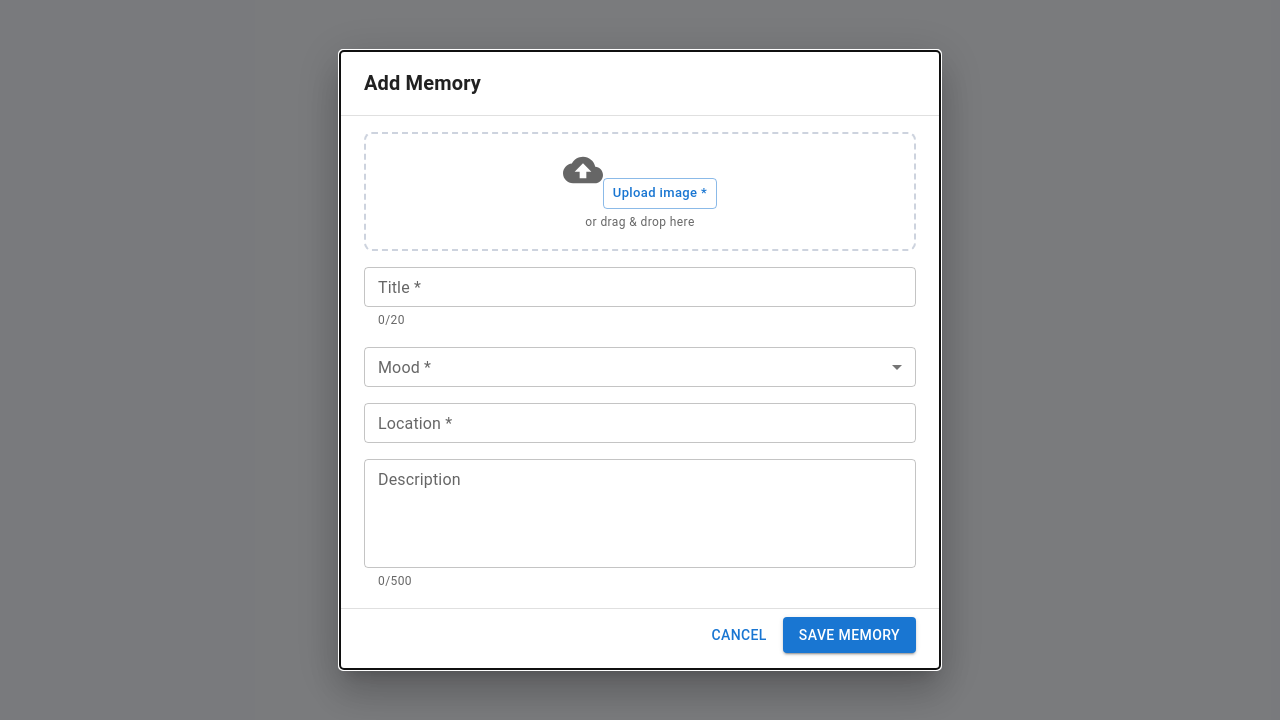
Test case: CreateMemoryModal › shows error for title exceeding 20 chars
Type "A very long title that exceeds limit" into the field labelled "Title *". click: (640, 287)
box: [364,267,916,307]
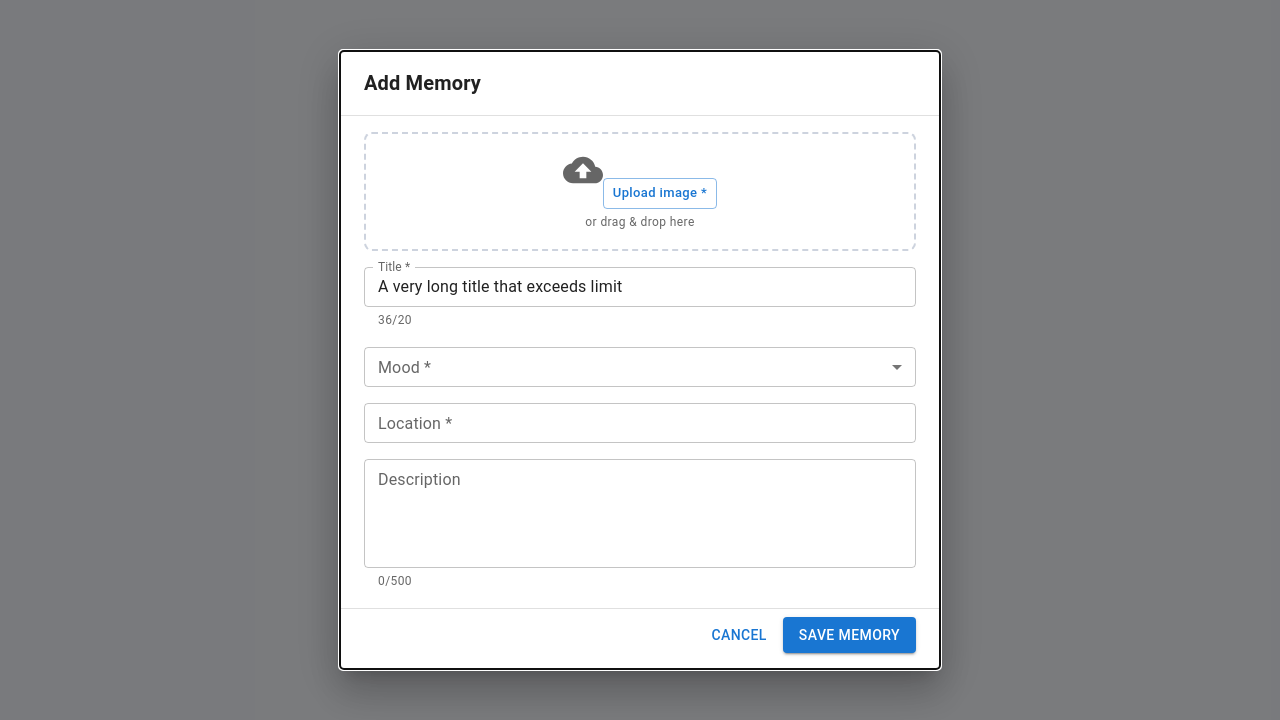
Submit the form, box [340,51,940,669]
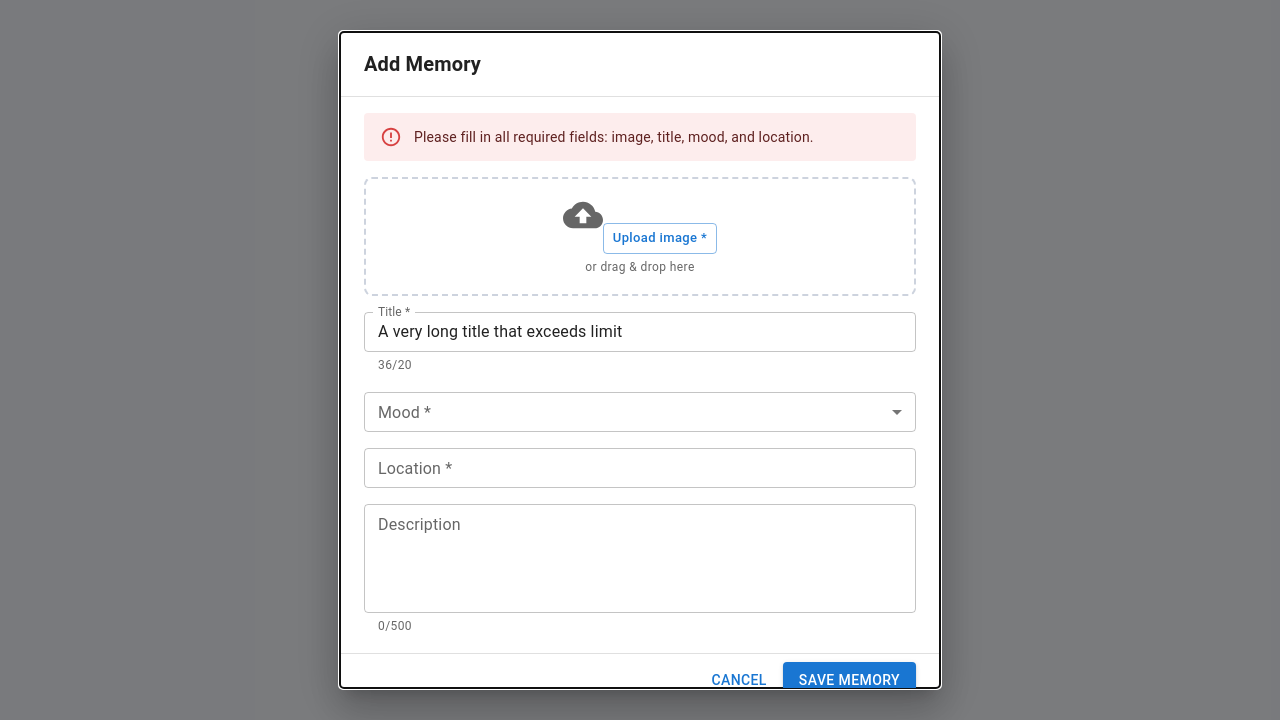
Expected: the text "required fields" is shown, [414,129,814,145]
